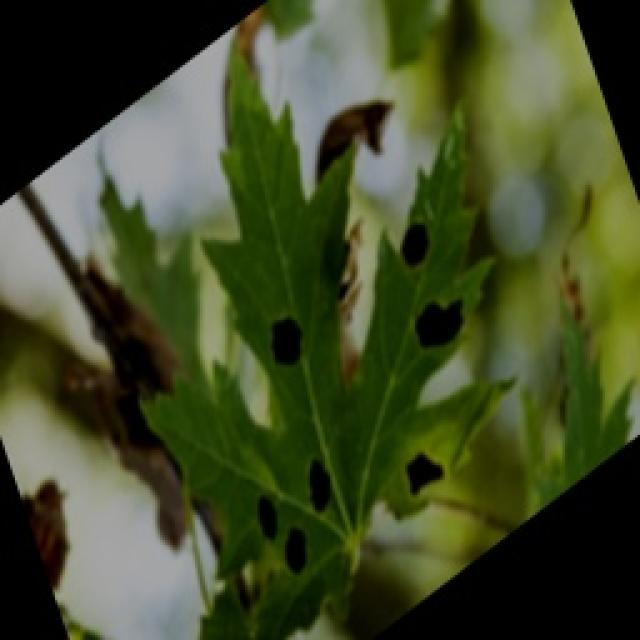Tar_Spot: (175, 142, 517, 496)
